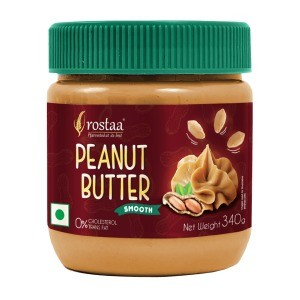peanut butter_brain food: (52, 94, 251, 219)
